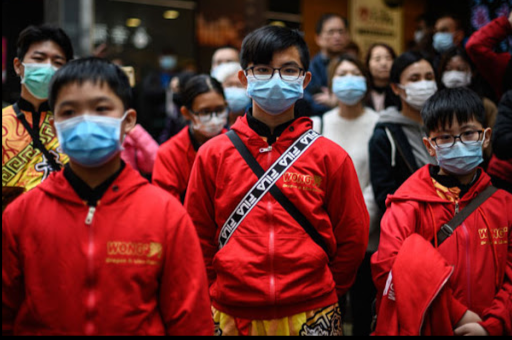with_mask: (52, 94, 124, 162), (246, 58, 305, 113), (428, 120, 485, 172), (22, 49, 67, 100), (400, 69, 436, 109), (190, 102, 227, 136), (332, 68, 367, 102), (222, 76, 252, 113), (209, 54, 243, 82), (442, 64, 470, 91), (429, 24, 456, 49)
without_mask: (369, 52, 393, 77), (322, 26, 346, 50)
